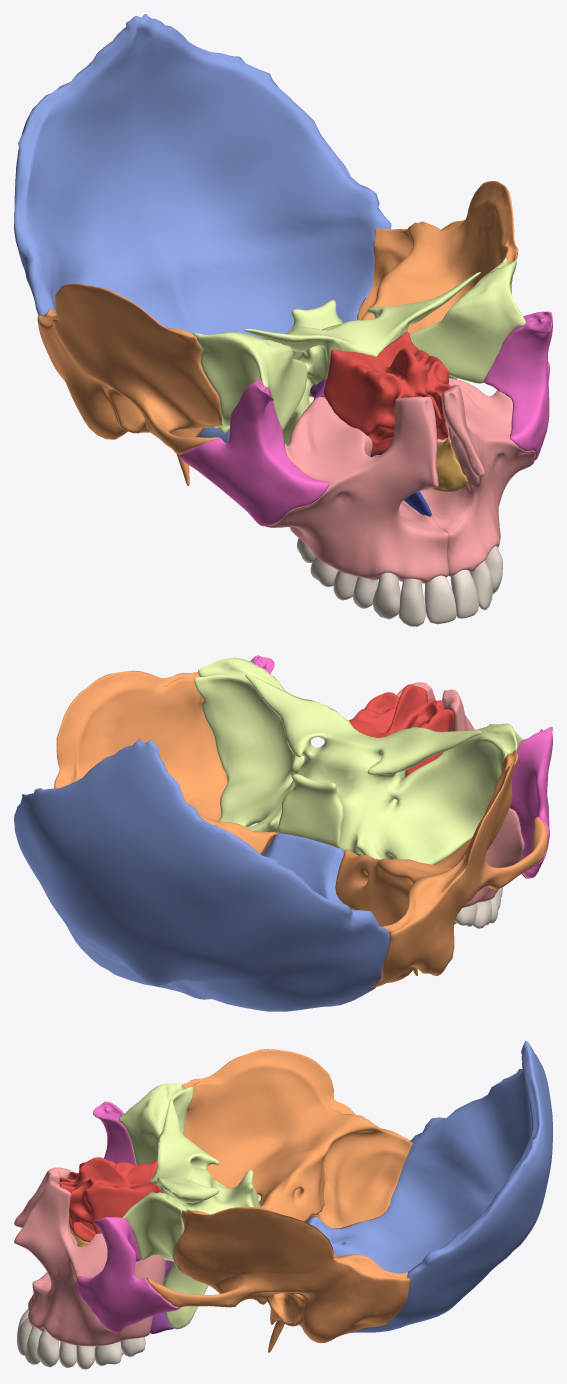
Rendered from overview-skull-base.glb.
3 renders of one model, top to bottom at view 1: azimuth 30°, elevation 25°; view 2: azimuth 150°, elevation 25°; view 3: azimuth 270°, elevation 25°, orthographic. The views are drawn at different scales.
Parts seen in each view (by area): view 1: Occipital bone, Maxilla bone.r, Sphenoid bone, Temporal bone.r, Temporal bone.l, Maxilla bone.l, Zygomatic bone.r, Ethmoid Bone, Zygomatic bone.l, Upper medial incisor.r, Inferior nasal concha bone.l, Upper lateral incisor.r (+2 smaller); view 2: Occipital bone, Sphenoid bone, Temporal bone.r, Temporal bone.l, Zygomatic bone.r, Ethmoid Bone, Maxilla bone.r; view 3: Occipital bone, Temporal bone.r, Temporal bone.l, Sphenoid bone, Maxilla bone.l, Zygomatic bone.l, Ethmoid Bone, Zygomatic bone.r, Maxilla bone.r, Upper canine.l, Upper first molar tooth.l, Upper lateral incisor.l (+3 smaller).
Part boxes in pixels (bbox=[...]): Occipital bone: bbox=[14, 14, 391, 442]; Maxilla bone.r: bbox=[265, 396, 448, 583]; Sphenoid bone: bbox=[192, 257, 525, 445]; Temporal bone.r: bbox=[37, 283, 222, 485]; Temporal bone.l: bbox=[357, 181, 518, 333]; Maxilla bone.l: bbox=[420, 378, 535, 576]; Zygomatic bone.r: bbox=[179, 380, 329, 526]; Ethmoid Bone: bbox=[324, 331, 451, 455]; Zygomatic bone.l: bbox=[483, 311, 552, 460]; Upper medial incisor.r: bbox=[424, 575, 456, 624]; Inferior nasal concha bone.l: bbox=[432, 437, 467, 491]; Upper lateral incisor.r: bbox=[398, 578, 425, 626]; Occipital bone: bbox=[14, 738, 389, 1011]; Sphenoid bone: bbox=[193, 657, 523, 864]; Temporal bone.r: bbox=[335, 750, 547, 987]; Temporal bone.l: bbox=[54, 670, 276, 855]; Zygomatic bone.r: bbox=[509, 727, 552, 878]; Ethmoid Bone: bbox=[349, 684, 454, 775]; Maxilla bone.r: bbox=[442, 689, 528, 907]; Occipital bone: bbox=[306, 1041, 552, 1332]; Temporal bone.r: bbox=[182, 1049, 412, 1228]; Temporal bone.l: bbox=[147, 1207, 410, 1352]; Sphenoid bone: bbox=[119, 1083, 260, 1329]; Maxilla bone.l: bbox=[14, 1180, 165, 1346]; Zygomatic bone.l: bbox=[76, 1217, 180, 1332]; Ethmoid Bone: bbox=[58, 1157, 161, 1242]; Zygomatic bone.r: bbox=[93, 1101, 135, 1164]; Maxilla bone.r: bbox=[14, 1167, 72, 1311]; Upper canine.l: bbox=[37, 1328, 59, 1367]; Upper first molar tooth.l: bbox=[94, 1341, 123, 1365]; Upper lateral incisor.l: bbox=[25, 1325, 41, 1364].
Bounding box in the file's own units: 0.1444 × 0.1236 × 0.1976.
